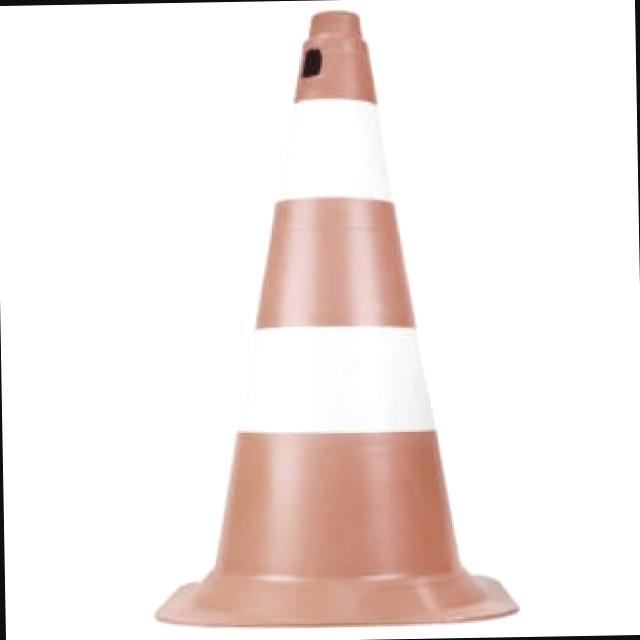cone: (157, 7, 510, 624)
